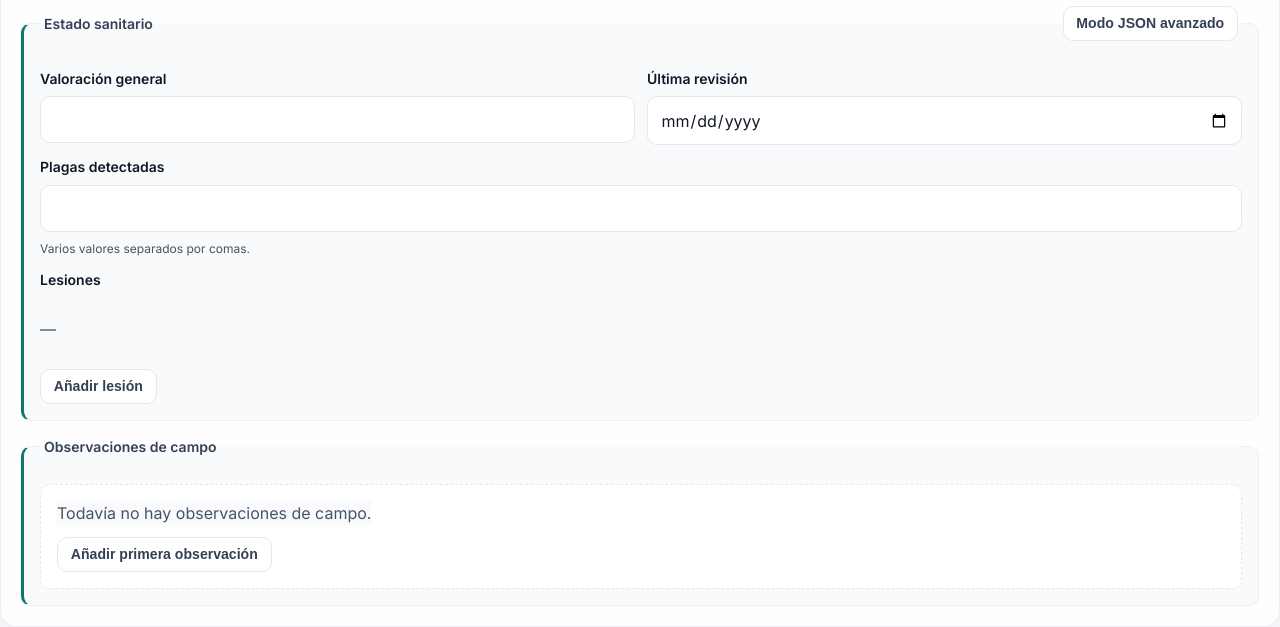
Test: TreeEnrichmentPanel › añade observaciones en modo edición
(page scrolled)
Expected: the element with class "mtl-enrichment-guided-section" that starts with "Observaciones de campo" is shown, [21,437,1259,606]
Step 1. Click the button with test id "tree-enrichment-add-observation" → click(164, 555), box [57,538,272,572]
(page scrolled)
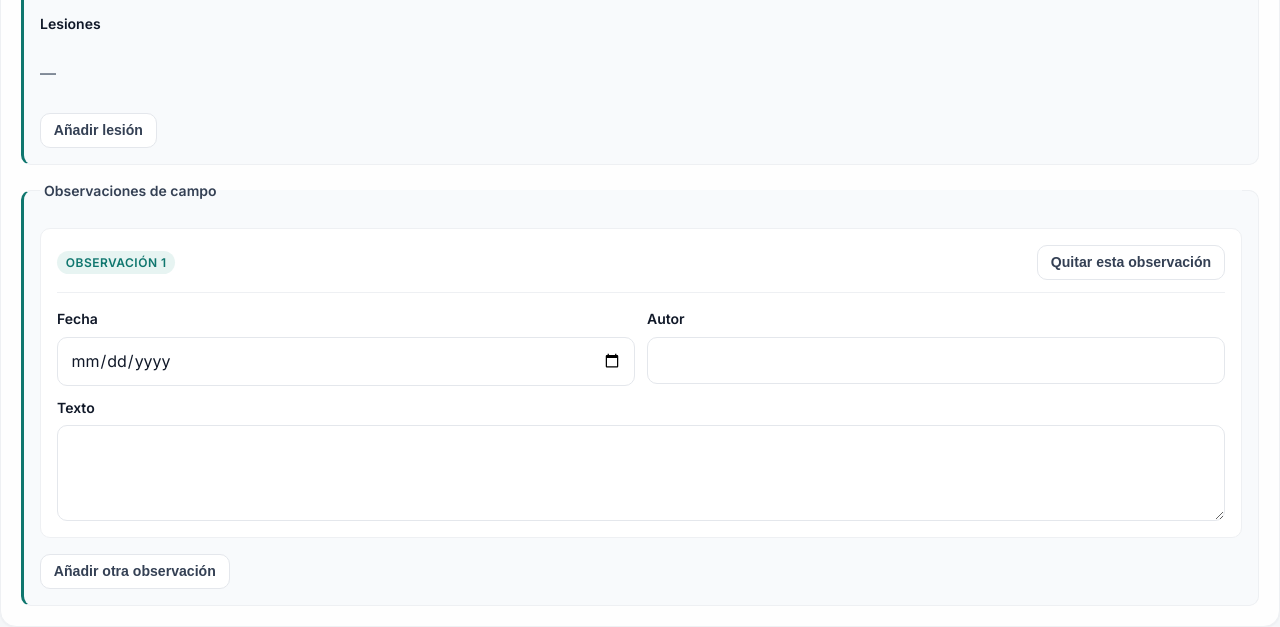
Now the element with test id "tree-enrichment-observation-0" is shown, box [40,228,1242,538]
Now the text "Añadir otra observación" is shown, box [40,554,230,589]
